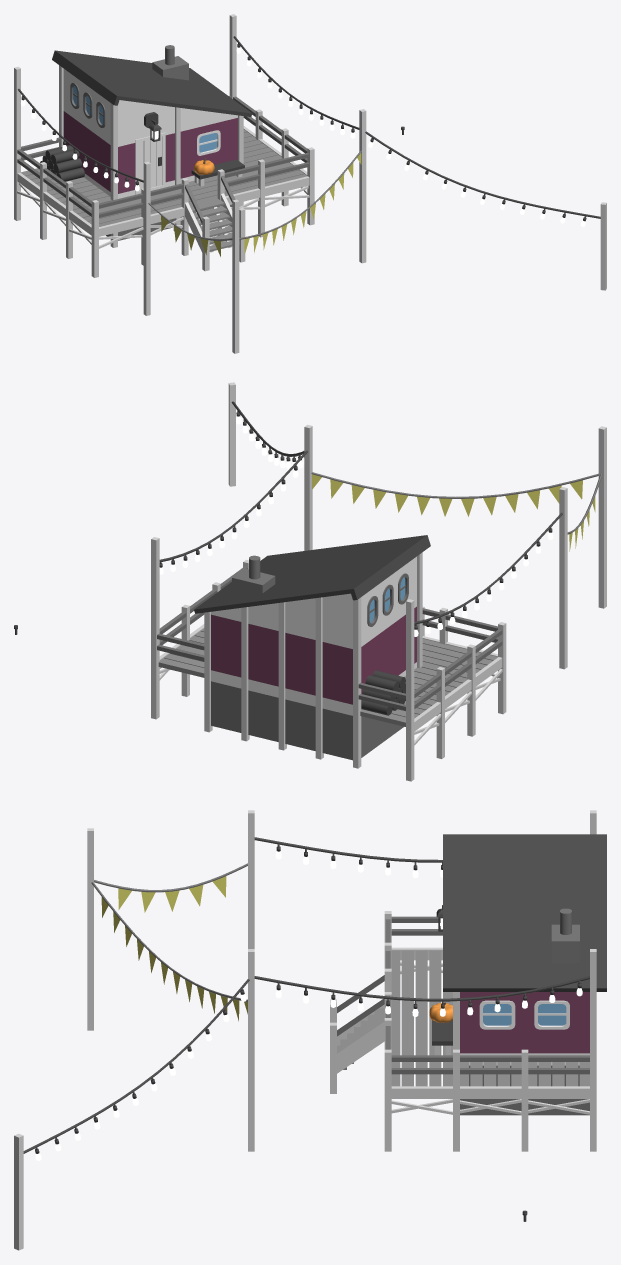
The model's file is Habits Models.fbx.
3 views of the same model, one above another, from view 1: azimuth 30°, elevation 25°; view 2: azimuth 150°, elevation 25°; view 3: azimuth 270°, elevation 25° (orthographic). The views are drawn at different scales.
Visible parts, largest first — view 1: Bungalow, Hanging Lights, Buntings, Bungalow Door; view 2: Bungalow, Hanging Lights, Buntings; view 3: Bungalow, Hanging Lights, Buntings.
Part boxes in pixels (left/top/right/bottom): Bungalow: left=14, top=14, right=606, bottom=353; Hanging Lights: left=18, top=36, right=600, bottom=226; Buntings: left=148, top=150, right=361, bottom=256; Bungalow Door: left=138, top=136, right=162, bottom=190; Bungalow: left=151, top=382, right=606, bottom=781; Hanging Lights: left=159, top=401, right=562, bottom=636; Buntings: left=311, top=472, right=602, bottom=551; Bungalow: left=14, top=810, right=606, bottom=1250; Hanging Lights: left=23, top=837, right=589, bottom=1160; Buntings: left=91, top=863, right=247, bottom=1021.
Size of the model in its own units: 4160 by 1649 by 4335.
